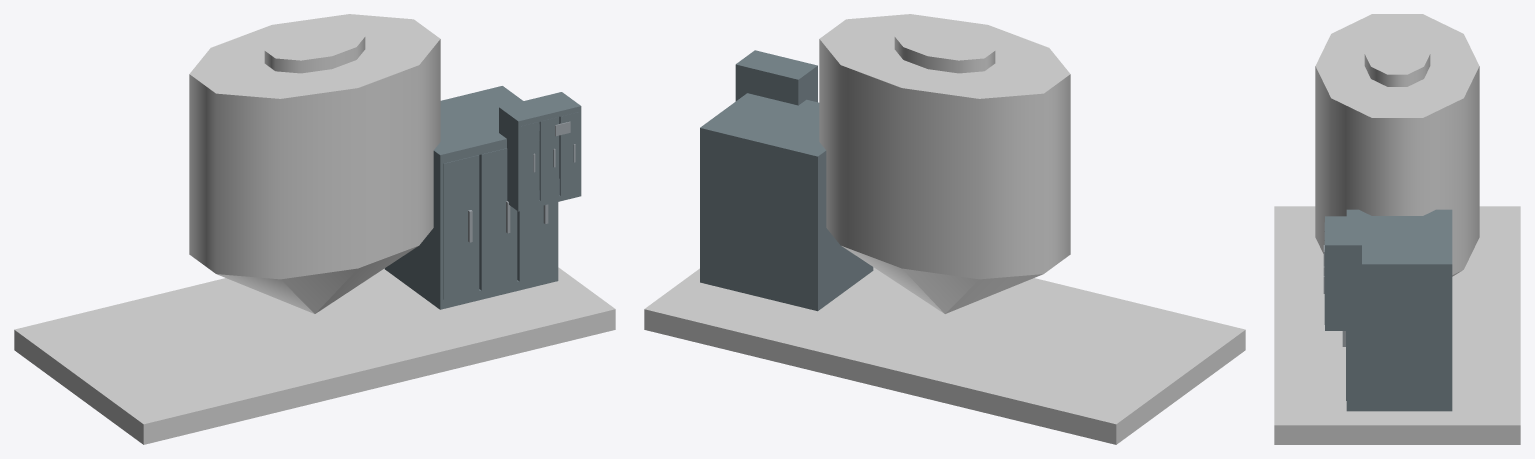
3 renders of one model, left to right at view 1: azimuth 30°, elevation 25°; view 2: azimuth 150°, elevation 25°; view 3: azimuth 270°, elevation 25°, orthographic. The views are drawn at different scales.
Parts seen in each view (by area): view 1: base_frame_1, vessel_3, g0.012, g0.014, g0.011, lid_4, hopper_6, g0.008, g0.016, g0.019, g0.007, g0.002 (+3 smaller); view 2: vessel_3, base_frame_1, g0.010, g0.011, lid_4, hopper_6, g0.008, g0.007, g0.019, g0.021, g0.009, g0.022; view 3: base_frame_1, vessel_3, g0.009, g0.011, g0.023, lid_4, g0.019, g0.007, g0.010.
Boxes of the visible parts, bbox=[...] form: base_frame_1: bbox=[14, 267, 615, 444]; vessel_3: bbox=[189, 14, 440, 279]; g0.012: bbox=[443, 155, 479, 299]; g0.014: bbox=[479, 148, 517, 290]; g0.011: bbox=[433, 87, 539, 163]; lid_4: bbox=[264, 26, 365, 73]; hopper_6: bbox=[216, 246, 417, 313]; g0.008: bbox=[391, 146, 446, 309]; g0.016: bbox=[517, 140, 554, 281]; g0.019: bbox=[499, 92, 580, 126]; g0.007: bbox=[384, 264, 558, 309]; g0.002: bbox=[539, 117, 559, 200]; vessel_3: bbox=[819, 14, 1070, 279]; base_frame_1: bbox=[644, 267, 1245, 444]; g0.010: bbox=[707, 130, 821, 310]; g0.011: bbox=[701, 95, 826, 165]; lid_4: bbox=[894, 26, 995, 73]; hopper_6: bbox=[842, 246, 1043, 313]; g0.008: bbox=[810, 146, 868, 301]; g0.007: bbox=[700, 264, 873, 311]; g0.019: bbox=[736, 50, 817, 84]; g0.021: bbox=[736, 65, 799, 105]; g0.009: bbox=[700, 93, 753, 283]; g0.022: bbox=[794, 70, 817, 105]; base_frame_1: bbox=[1274, 206, 1520, 444]; vessel_3: bbox=[1315, 14, 1479, 274]; g0.009: bbox=[1346, 261, 1452, 411]; g0.011: bbox=[1346, 209, 1452, 273]; g0.023: bbox=[1325, 245, 1361, 330]; lid_4: bbox=[1364, 33, 1430, 86]; g0.019: bbox=[1325, 216, 1361, 245]; g0.007: bbox=[1346, 402, 1452, 411]; g0.010: bbox=[1446, 264, 1452, 410].
Bounding box in the file's own units: 2.4 × 1.44 × 1.14.
